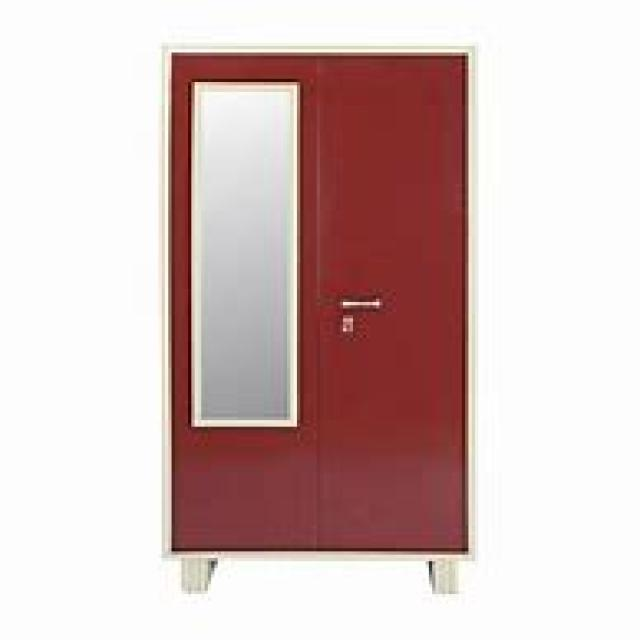dolap: (162, 46, 472, 591)
